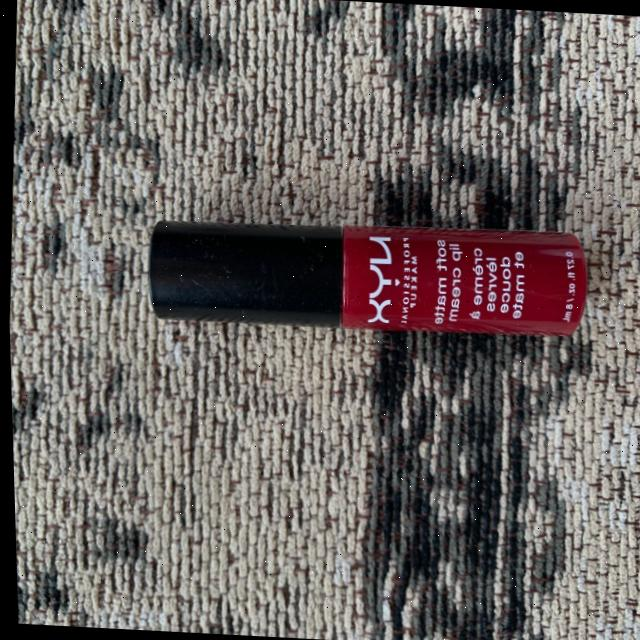lip gloss: (145, 216, 606, 392)
